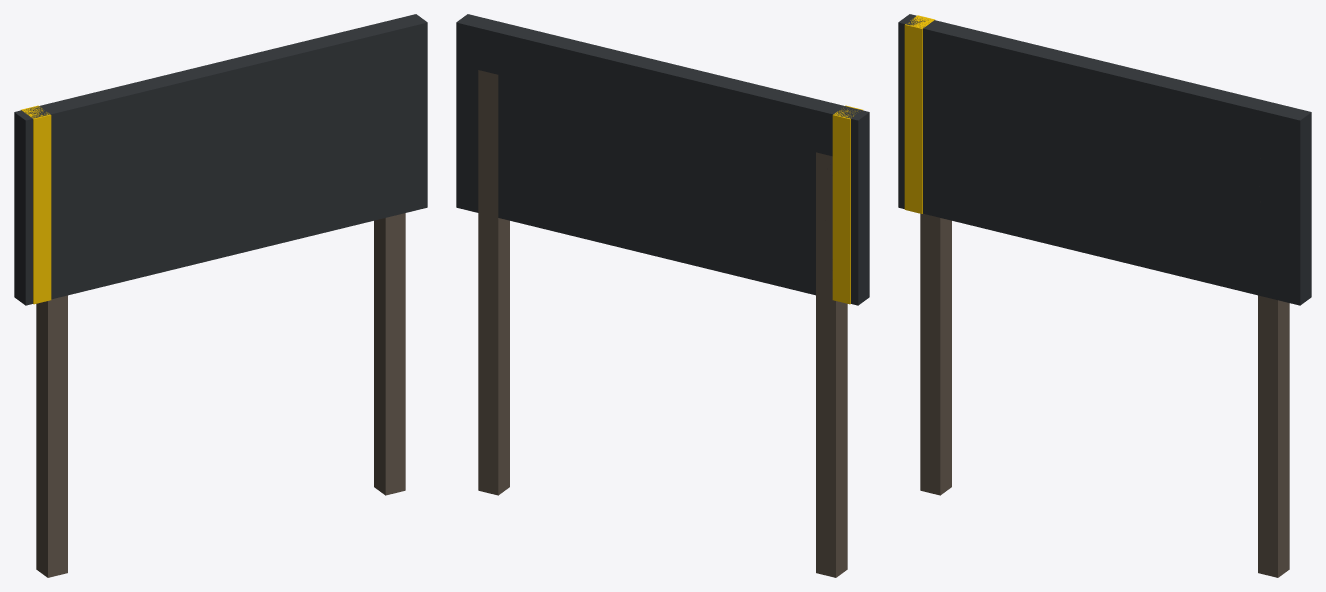
The model's file is DestinationSign.fbx.
The picture shows the model from 3 angles, left to right: view 1: azimuth 30°, elevation 25°; view 2: azimuth 150°, elevation 25°; view 3: azimuth 330°, elevation 25°; orthographic projection.
Visible parts, largest first — view 1: Sign_Plate, Sign_Post.001, Sign_Post, Sign_Stripe; view 2: Sign_Plate, Sign_Post.001, Sign_Post, Sign_Stripe; view 3: Sign_Plate, Sign_Post, Sign_Post.001, Sign_Stripe.
Part boxes in pixels (x1,y1,x2,y2): Sign_Plate: (14,14,427,305); Sign_Post.001: (374,213,405,495); Sign_Post: (36,295,67,577); Sign_Stripe: (21,105,51,304); Sign_Plate: (456,14,869,305); Sign_Post.001: (478,70,509,495); Sign_Post: (816,152,847,577); Sign_Stripe: (832,105,862,304); Sign_Plate: (898,14,1311,305); Sign_Post: (920,213,951,495); Sign_Post.001: (1258,295,1289,577); Sign_Stripe: (904,15,934,213).
Size of the model in its own units: 500 by 550 by 28.
